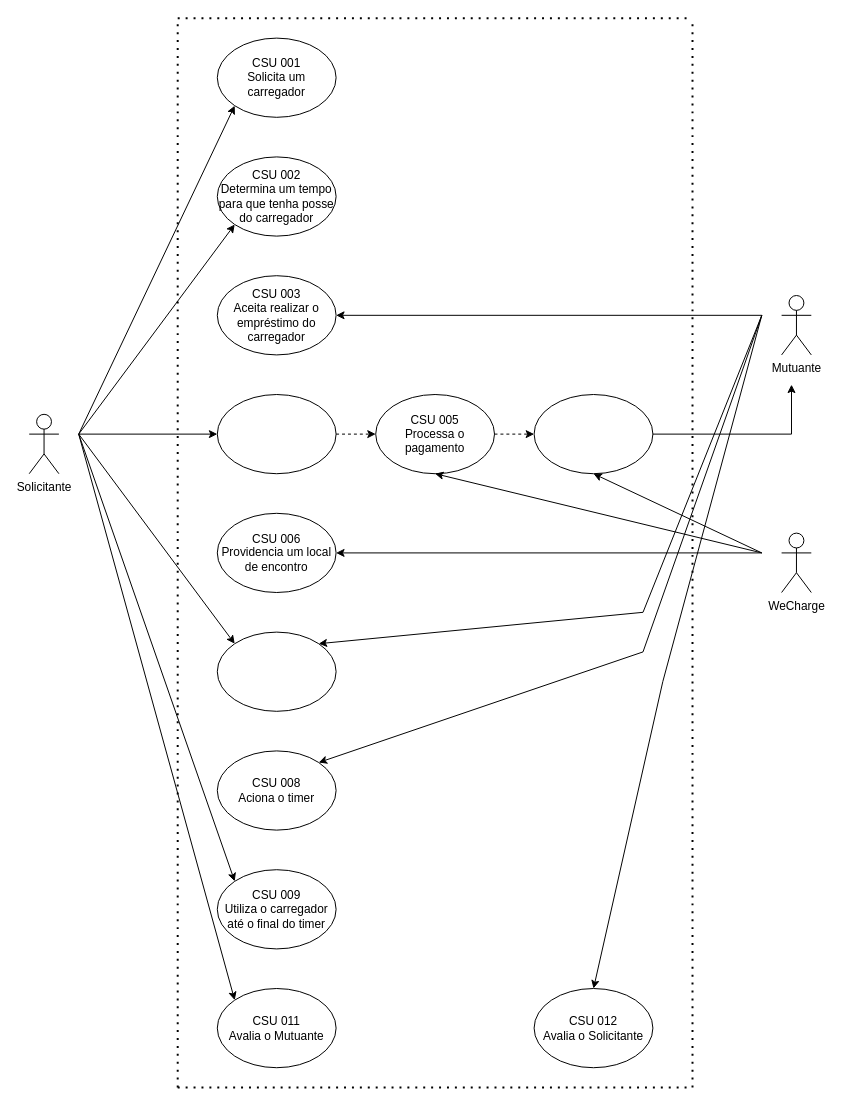
This 842x1106 diagram has some shape labels left out. Each missing label, with the centre of its shape:
"CSU 004 Realiza o pagamento pelo tempo pedido" goes at pixel 276 434.
"CSU 007 Se dirige ao local de encontro" goes at pixel 276 671.
"CSU 010 Envia o pagamento pelos serviços" goes at pixel 593 434.
